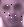without_mask: (2, 1, 24, 27)
